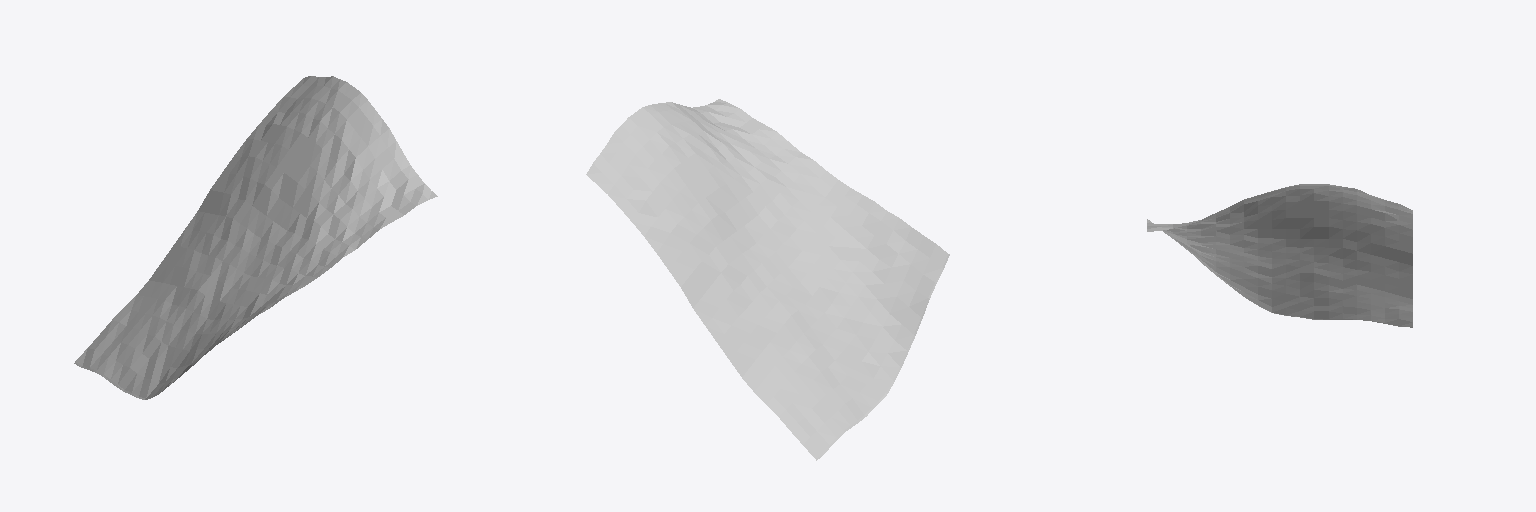
The model's file is terrain_20_27.obj.
3 renders of one model, left to right at view 1: azimuth 30°, elevation 25°; view 2: azimuth 150°, elevation 25°; view 3: azimuth 270°, elevation 25°, orthographic.
Visible parts, largest first — view 1: terrain_20_27_Plane.030; view 2: terrain_20_27_Plane.030; view 3: terrain_20_27_Plane.030.
Part boxes in pixels (x1,y1,x2,y2): terrain_20_27_Plane.030: (74, 76, 437, 399); terrain_20_27_Plane.030: (586, 99, 949, 460); terrain_20_27_Plane.030: (1147, 184, 1412, 327).
Size of the model in its own units: 32 by 33.92 by 32.